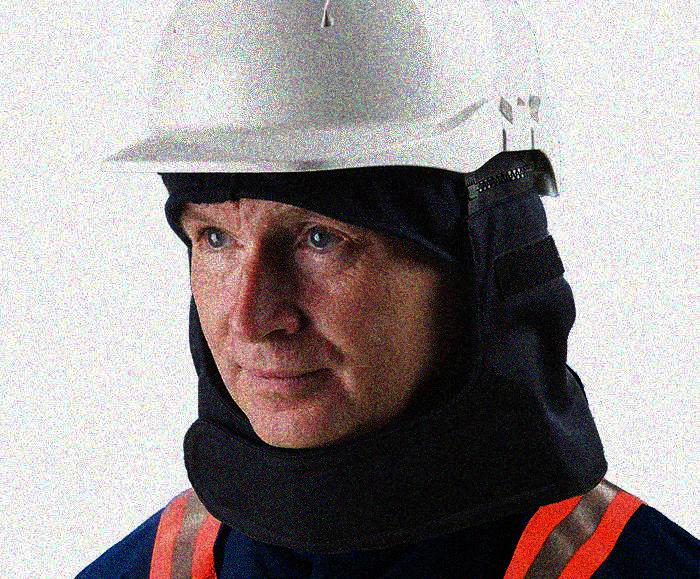helmet: (101, 1, 562, 447)
